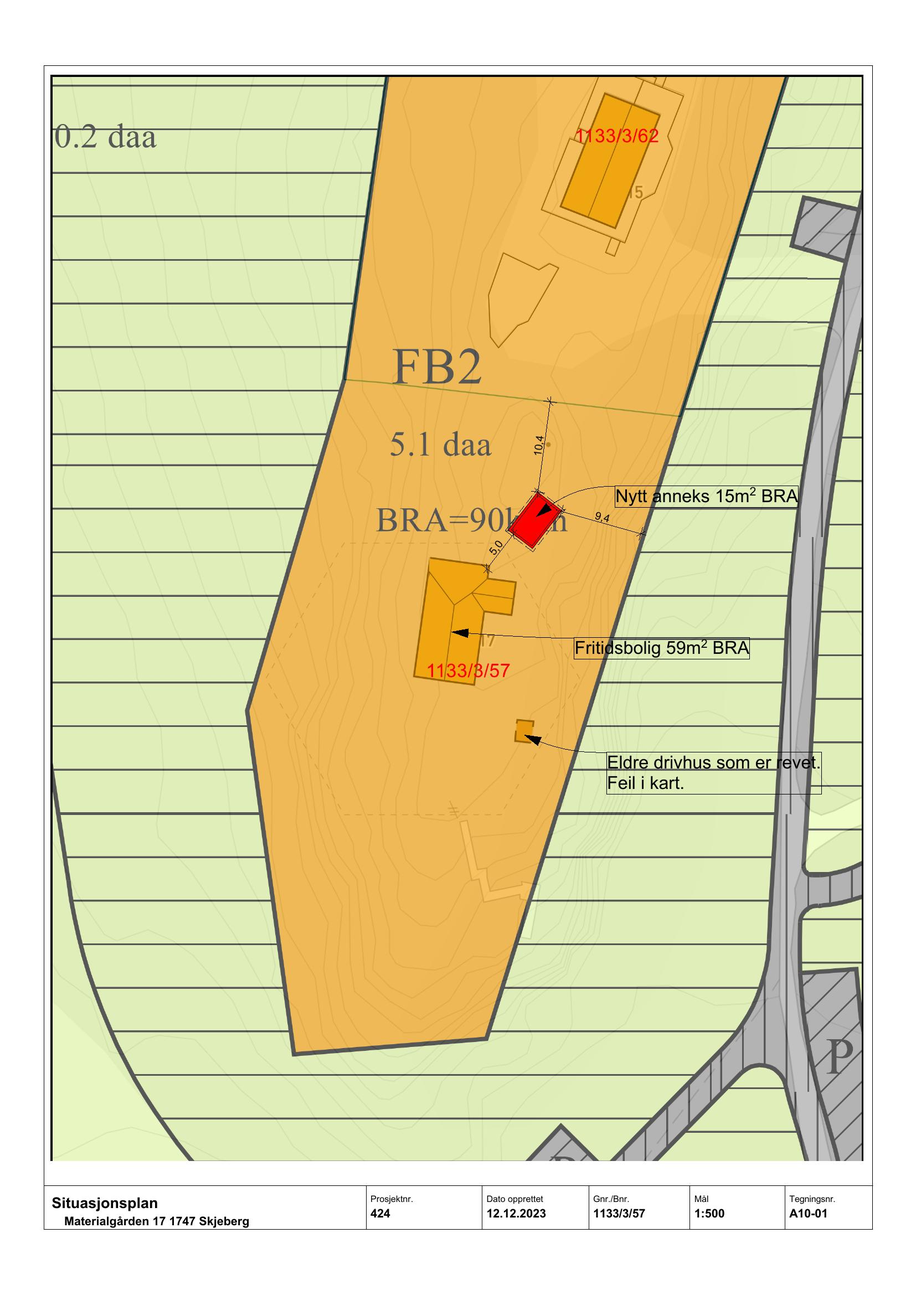situasjonskart: (50, 74, 866, 1161)
